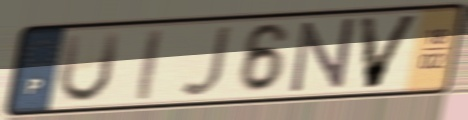6: (232, 21, 296, 96)
I: (135, 26, 166, 103)
J: (177, 23, 236, 100)
N: (288, 15, 358, 96)
U: (56, 28, 125, 107)
V: (356, 12, 424, 92)
